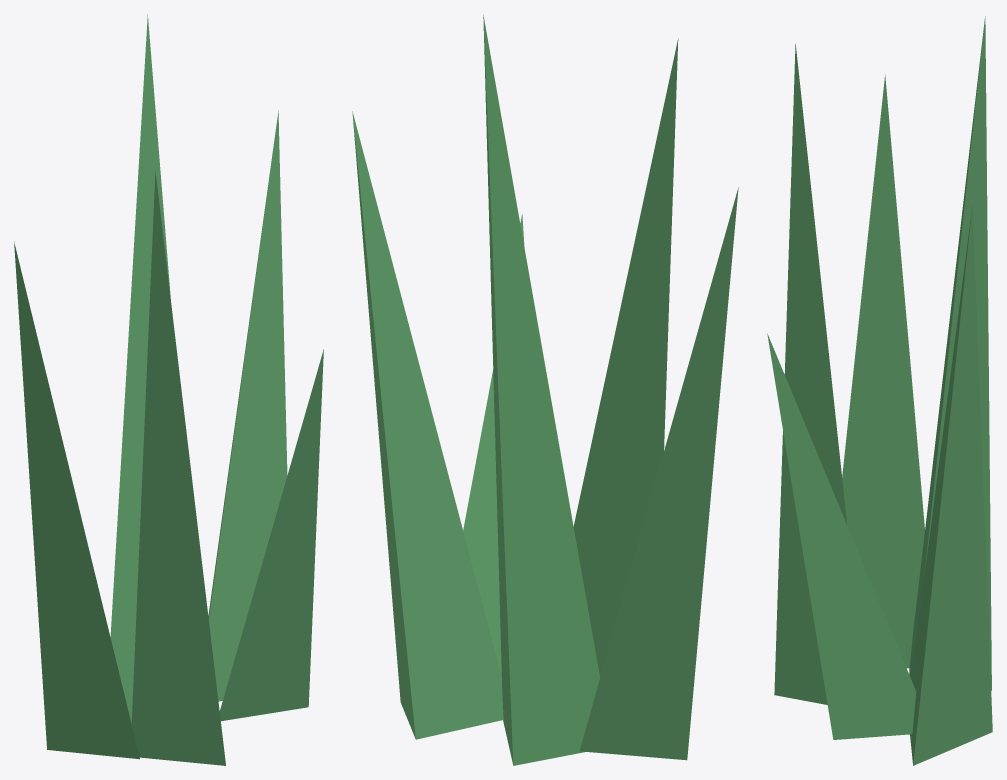
The model's file is gras2.fbx.
3 renders of one model, left to right at view 1: azimuth 30°, elevation 25°; view 2: azimuth 150°, elevation 25°; view 3: azimuth 270°, elevation 25°, orthographic. The views are drawn at different scales.
Visible parts, largest first — view 1: Cone.002, Cone.003, Cone.006, Cone.007, Cone; view 2: Cone, Cone.006, Cone.003, Cone.002, Cone.007; view 3: Cone.003, Cone.006, Cone.007, Cone.002, Cone.
Part boxes in pixels (x1,y1,x2,y2): Cone.002: (131,170,225,765); Cone.003: (14,241,139,759); Cone.006: (208,110,287,701); Cone.007: (219,349,323,721); Cone: (110,14,170,723); Cone: (483,15,599,765); Cone.006: (352,111,503,739); Cone.003: (579,187,738,760); Cone.002: (573,38,678,677); Cone.007: (463,214,524,675); Cone.003: (842,74,924,668); Cone.006: (910,205,992,765); Cone.007: (767,333,916,739); Cone.002: (774,43,847,704); Cone: (909,16,991,690).
Bounding box in the file's own units: 185 × 389 × 114.
